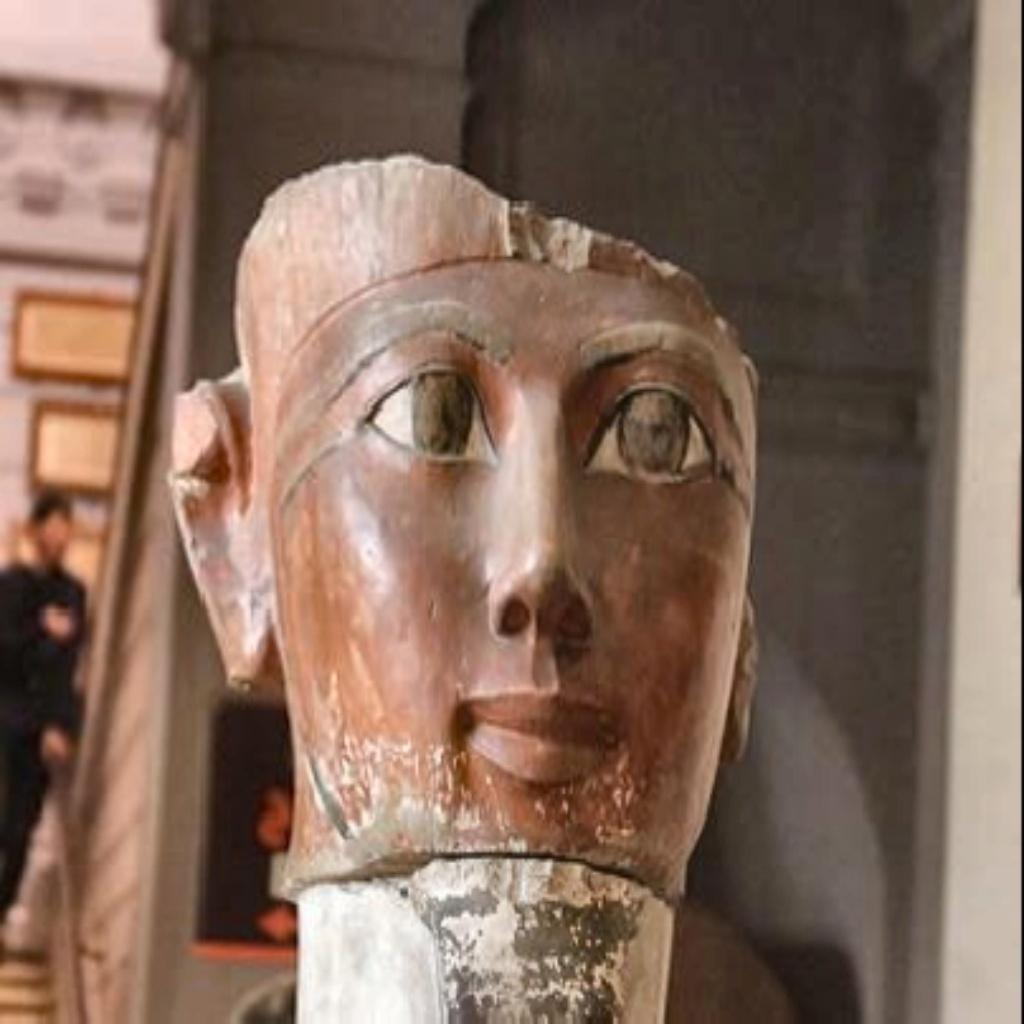Hatshepsut face: (164, 142, 770, 1020)
